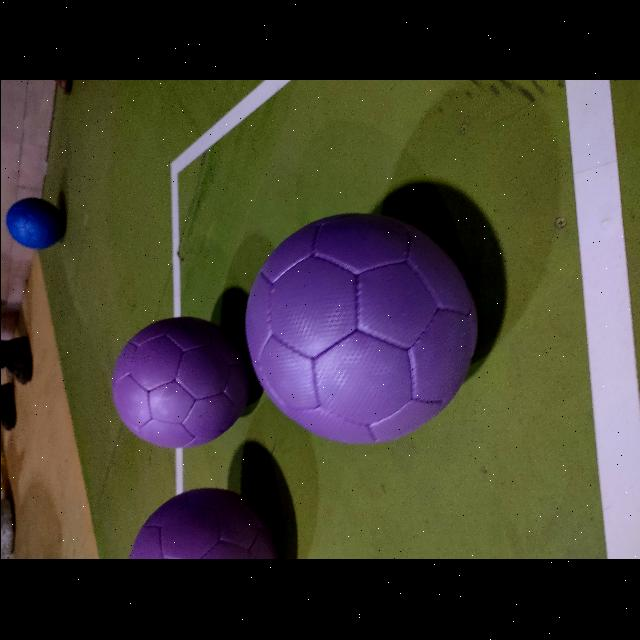B: (2, 200, 64, 248)
P: (244, 214, 476, 444), (111, 317, 249, 448), (128, 490, 278, 560)
